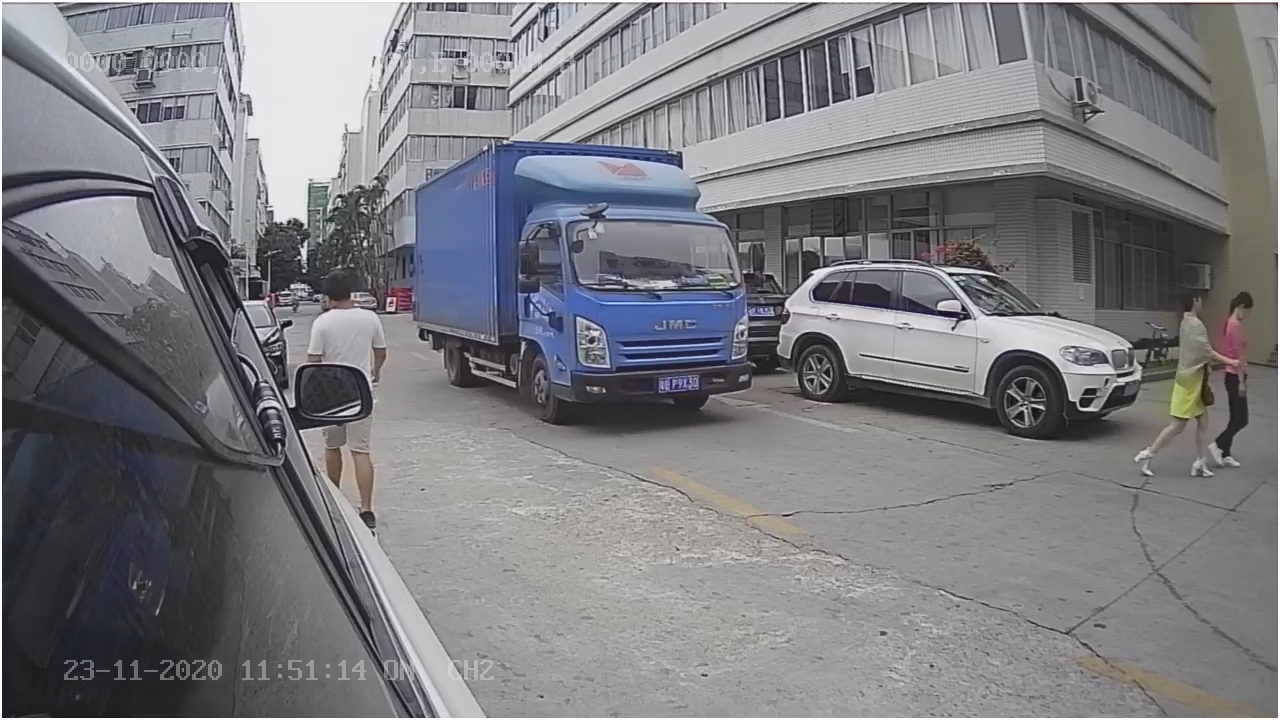person: (1126, 281, 1243, 482), (300, 270, 389, 362)
